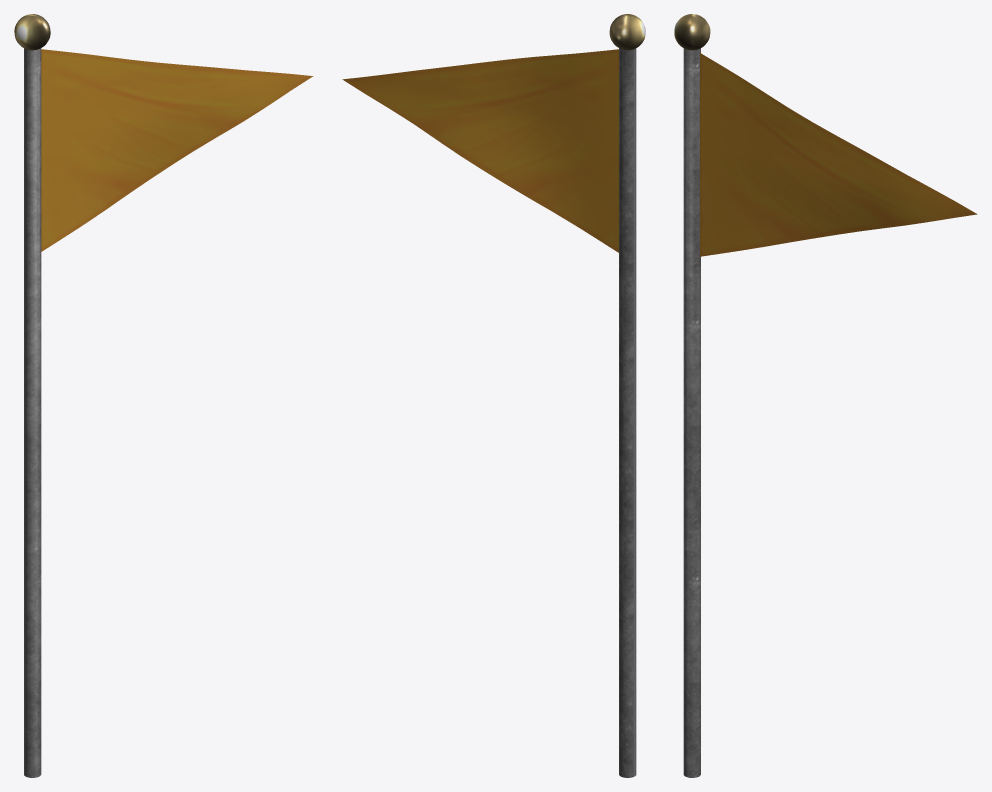
The model's file is Flag_20.fbx.
3 renders of one model, left to right at view 1: azimuth 30°, elevation 25°; view 2: azimuth 150°, elevation 25°; view 3: azimuth 330°, elevation 25°, orthographic.
Parts seen in each view (by area): view 1: flag_cloth, poal, poal_sphere; view 2: flag_cloth, poal, poal_sphere; view 3: flag_cloth, poal, poal_sphere.
Part boxes in pixels (box(x1,y1,x2,y2)): flag_cloth: box(41, 49, 313, 251); poal: box(24, 48, 41, 777); poal_sphere: box(14, 14, 50, 50); flag_cloth: box(342, 49, 618, 252); poal: box(619, 48, 636, 777); poal_sphere: box(609, 14, 645, 50); flag_cloth: box(700, 53, 977, 256); poal: box(683, 48, 700, 777); poal_sphere: box(674, 14, 710, 50).
Size of the model in its own units: 379 by 918 by 40.
